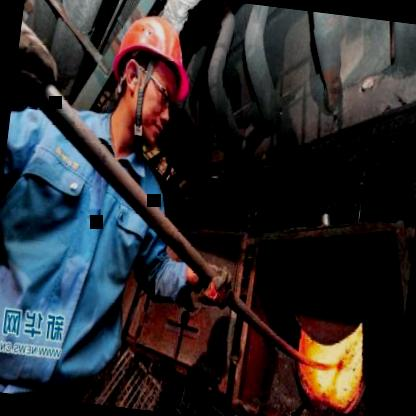helmet: (95, 0, 202, 149)
